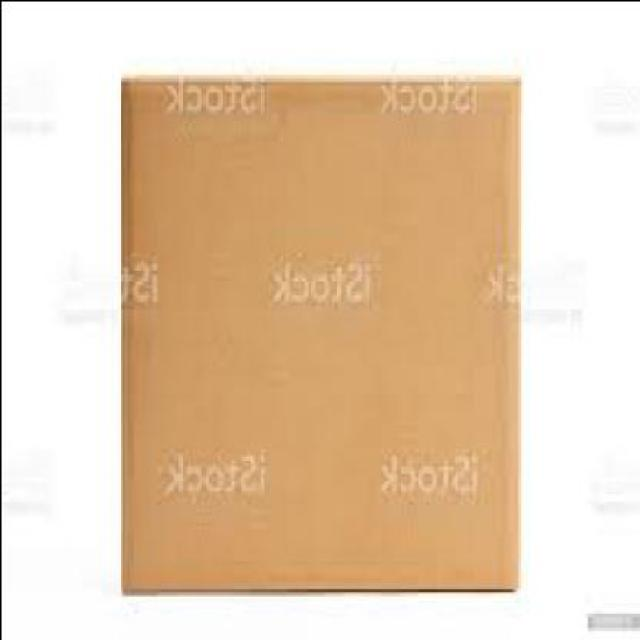CARDBOARD: (121, 71, 522, 591)
